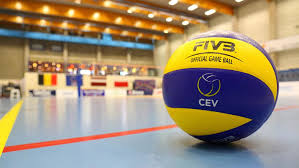ball: (162, 30, 280, 146)
